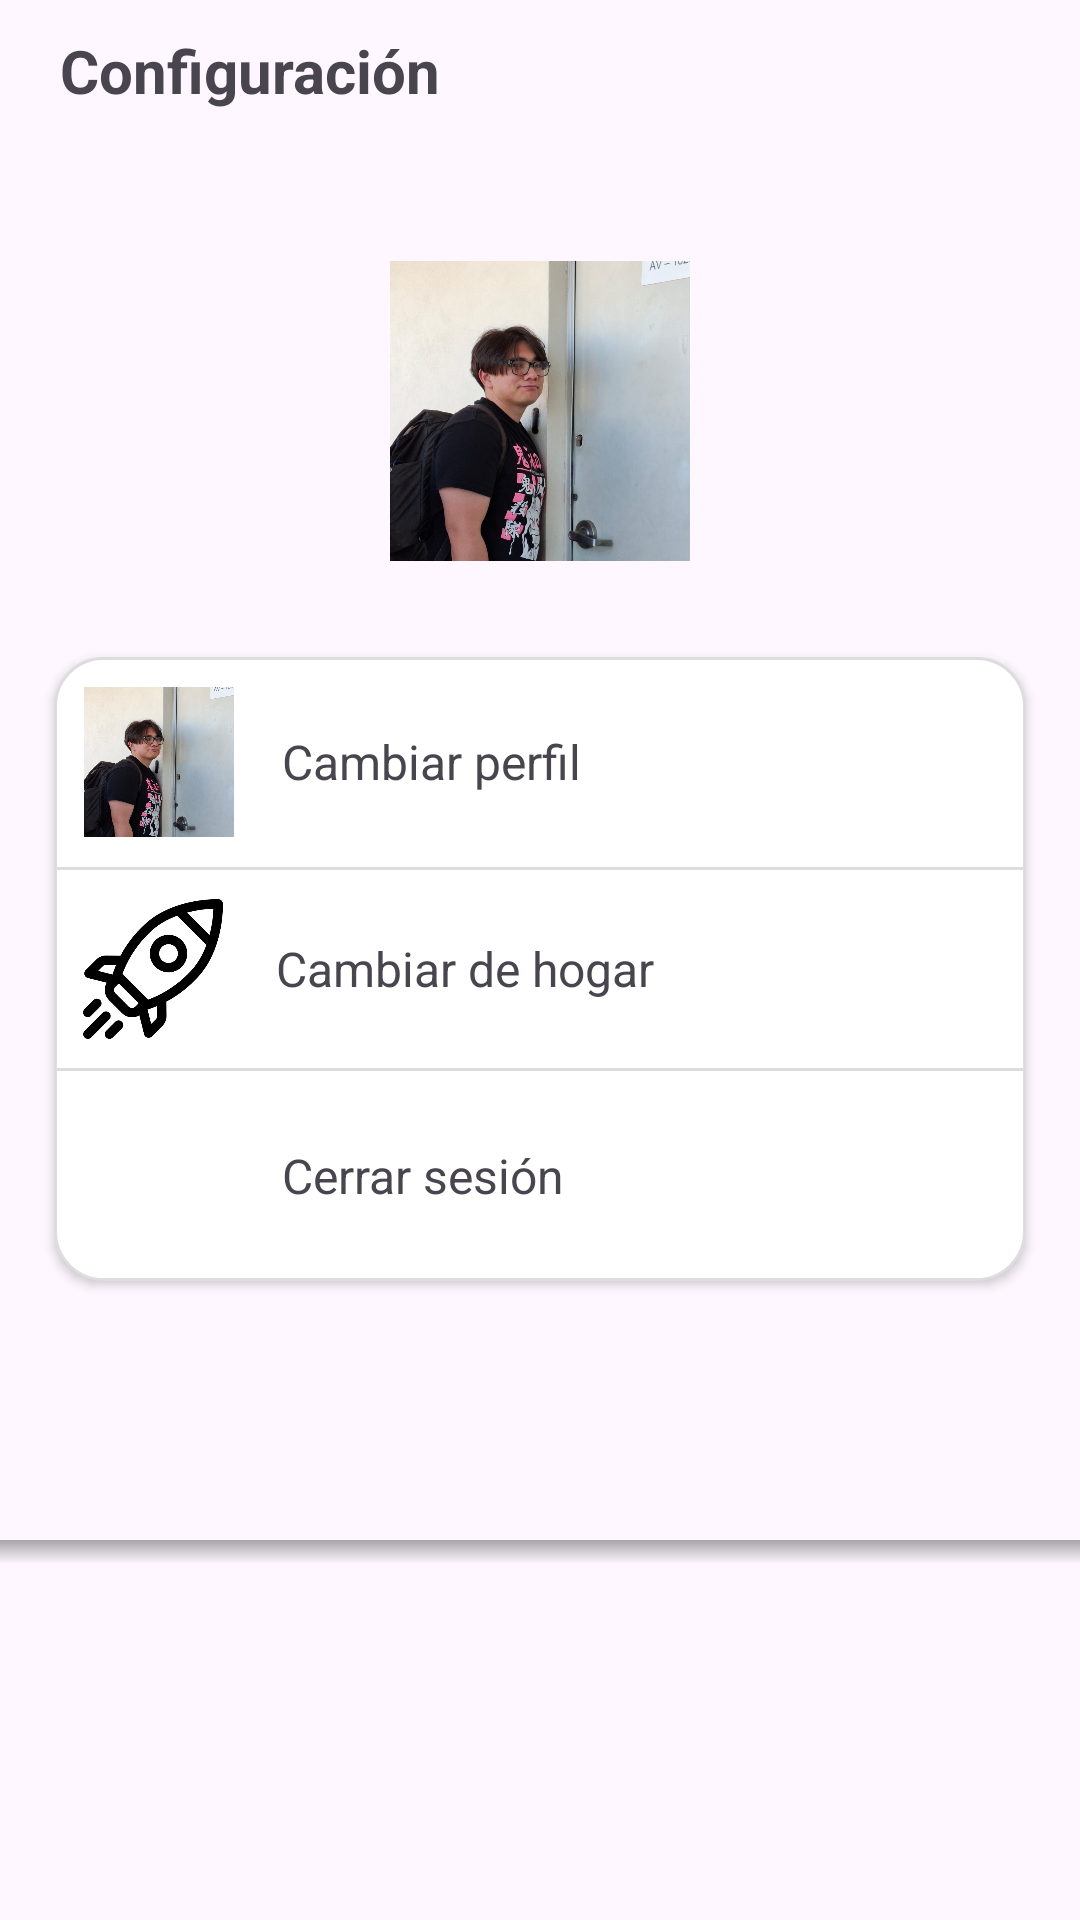

Locate icon controls on the screen. Image size 1080*1920, boxes as (left=x1, top=y1, right=x2, bottom=y2).
rocket: (left=83, top=899, right=223, bottom=1039)
